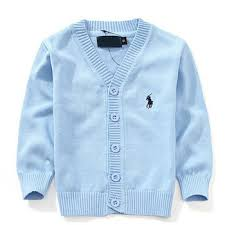S_cardigan sweater: (12, 23, 219, 220)
